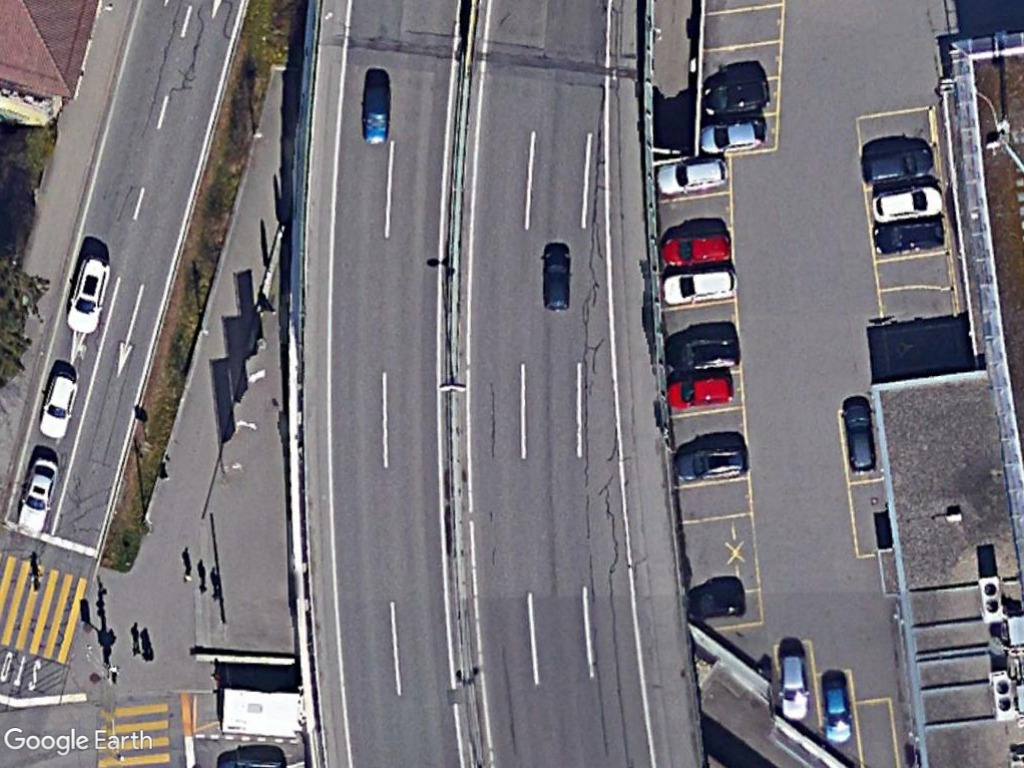car: (15, 452, 60, 537), (66, 253, 110, 334), (658, 265, 740, 308), (653, 154, 733, 197), (857, 145, 935, 189), (869, 184, 944, 223), (38, 371, 79, 441), (661, 229, 733, 268), (818, 675, 856, 748), (842, 398, 878, 475), (665, 374, 736, 412), (774, 649, 809, 723), (698, 118, 769, 154)
